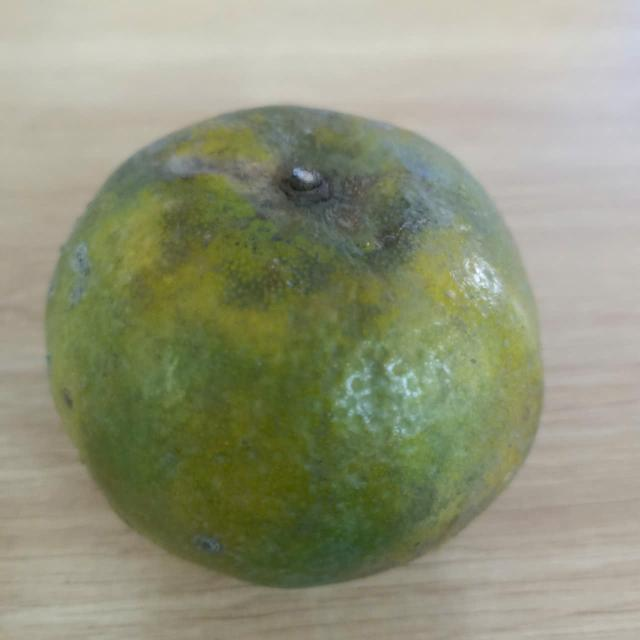Cam: (38, 94, 562, 588)
